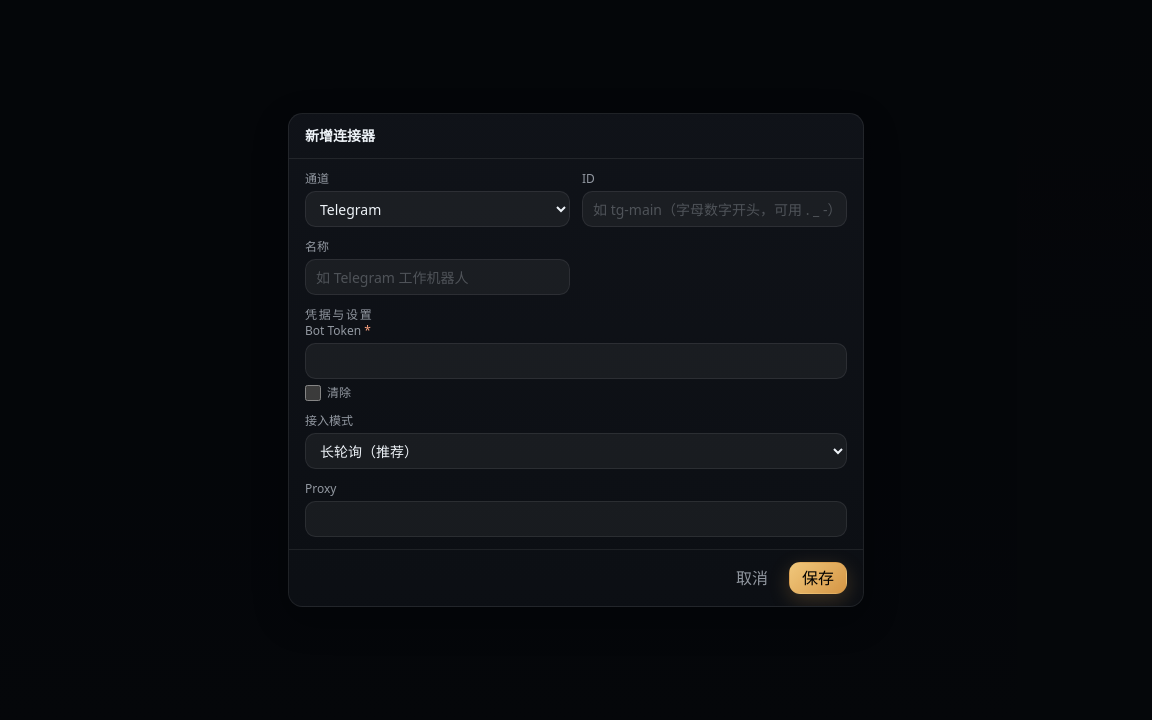
Scenario: ConnectorDialog › 新建缺必填时不提交并显示校验文案
Click the button "保存" at [818, 578], box [789,562,847,594]
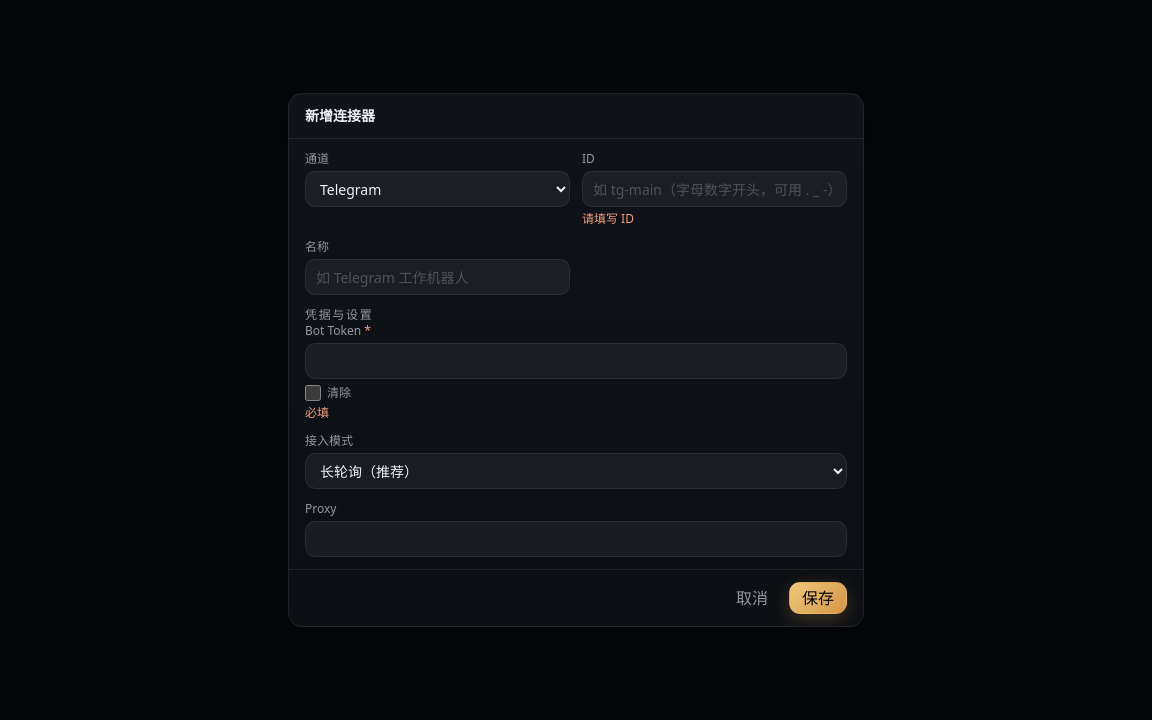
Check: the text "请填写 ID" is shown, box [582,210,634,227]
Check: the text "必填" is shown, box [305,404,329,421]
